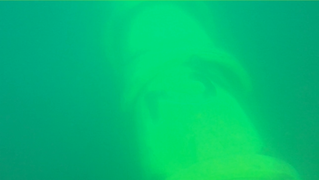2: (143, 72, 217, 125)
pipe: (100, 1, 301, 179)
